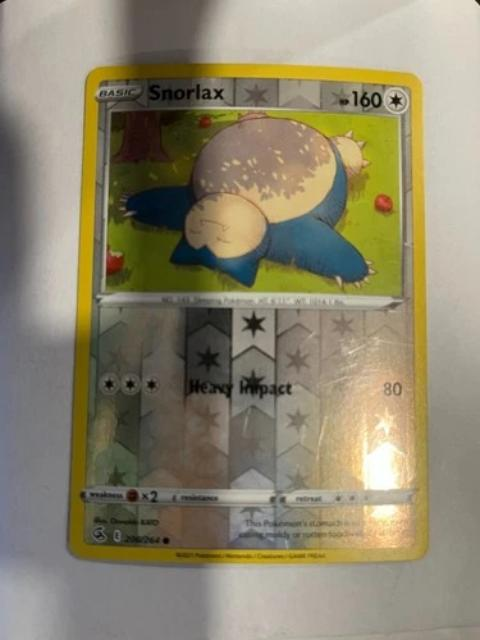Card: (59, 50, 435, 571)
Name: (143, 76, 228, 105)
